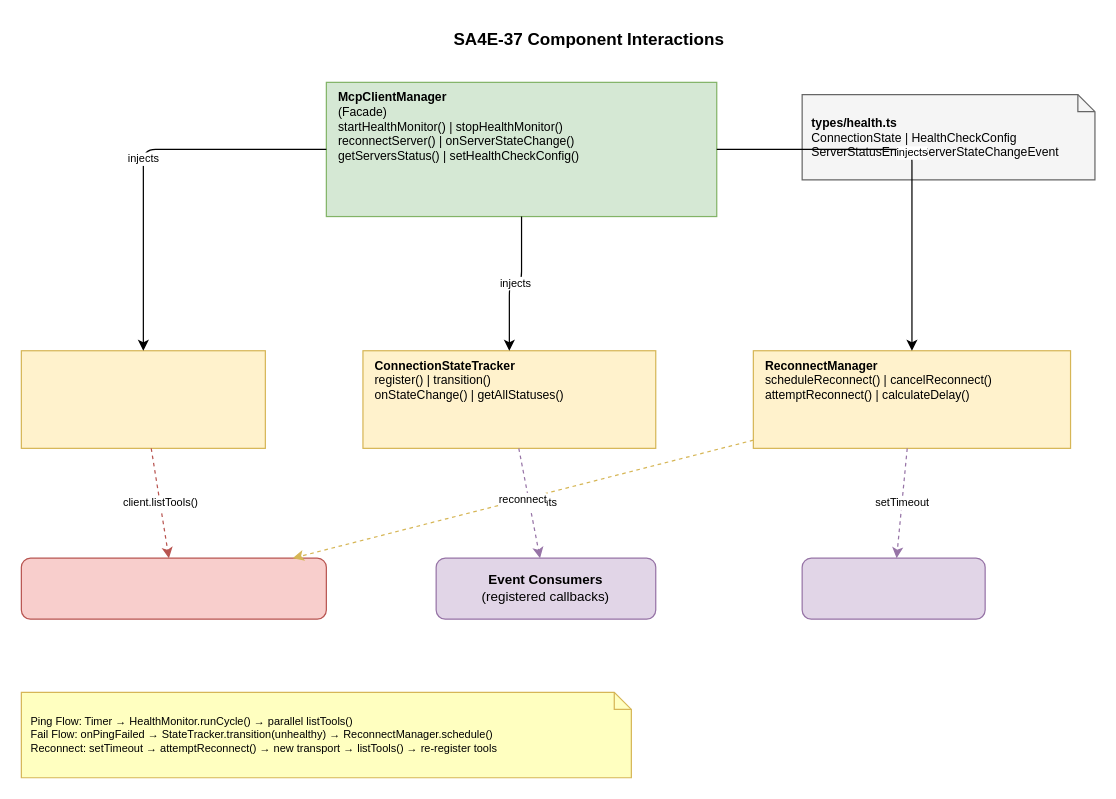
This 1116x799 diagram has some shape labels left out. The centre of each missing label's shape, as x and y in pixels:
Child MCP Servers atlassian | stitch | markitdown: the point at 173,588
HealthMonitor start() | stop() runCycle() | pingServer(): the point at 142,399
Node.js Timers: the point at 893,588
